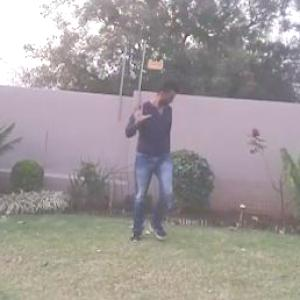follow_hand: (127, 94, 153, 128)
